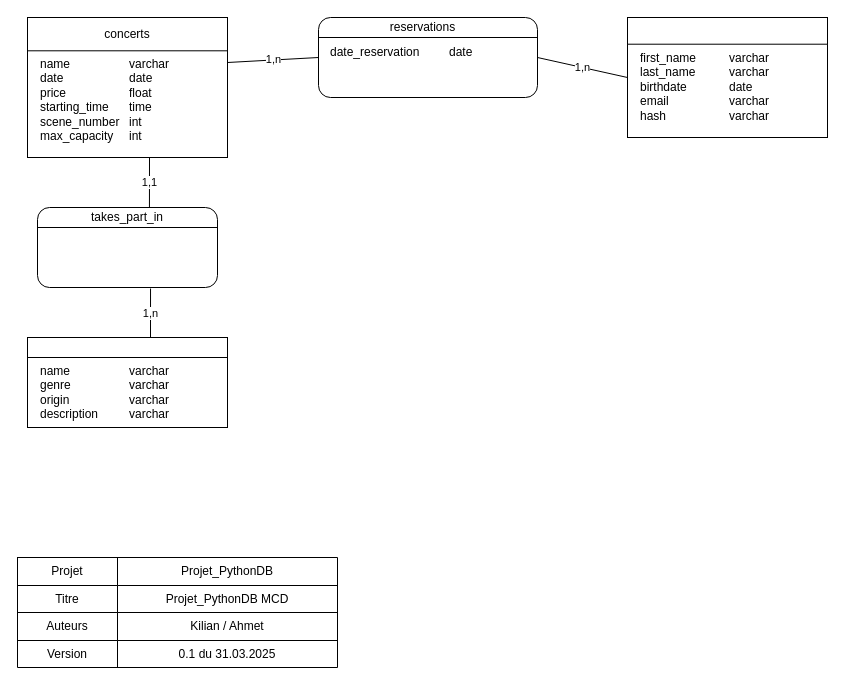
The diagram is 845 pixels wide and 685 high, and some of its shapes have lost their labels. Each missing label, with the centre of its shape:
"bands" goes at point 127,347.
"visitors" goes at point 727,30.
